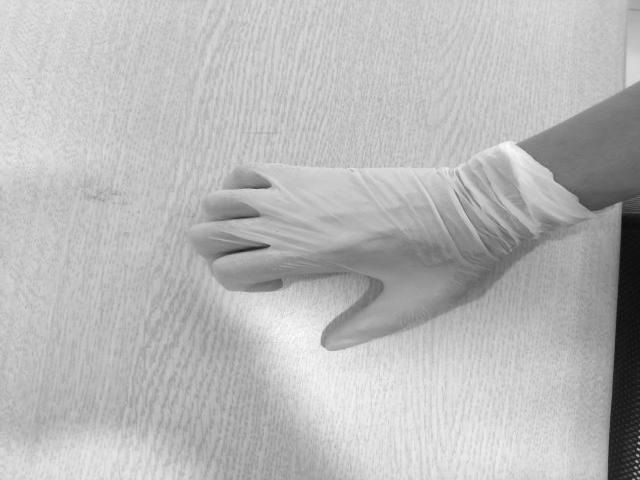gloved: (192, 161, 490, 351)
